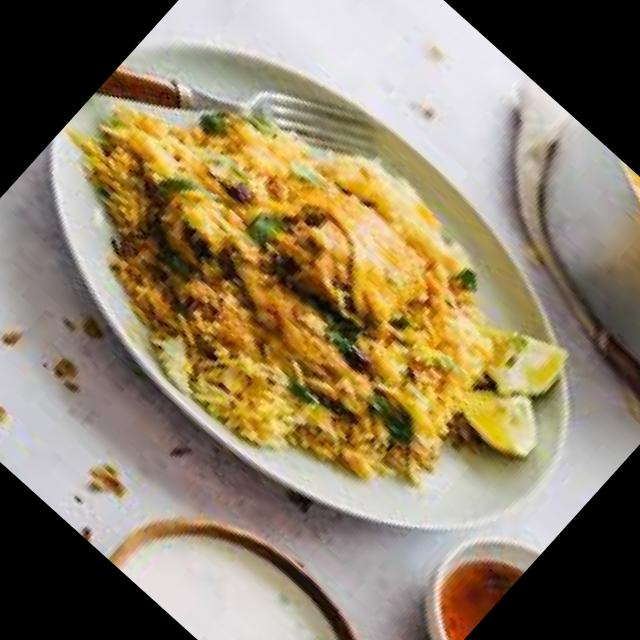Biryani: (40, 0, 599, 535)
